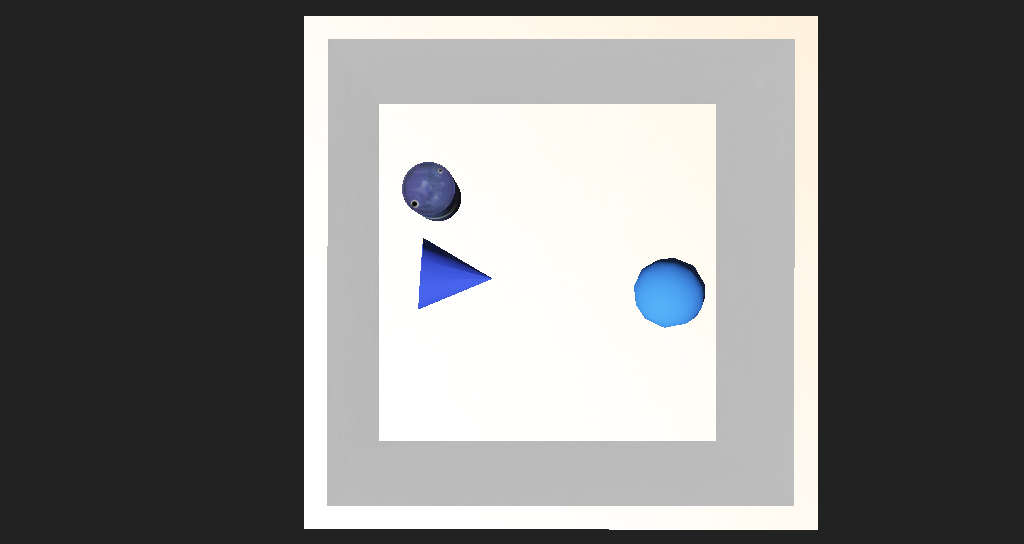cone: (374, 203, 435, 236)
cylinder: (381, 246, 468, 298)
sphere: (579, 260, 647, 303)
